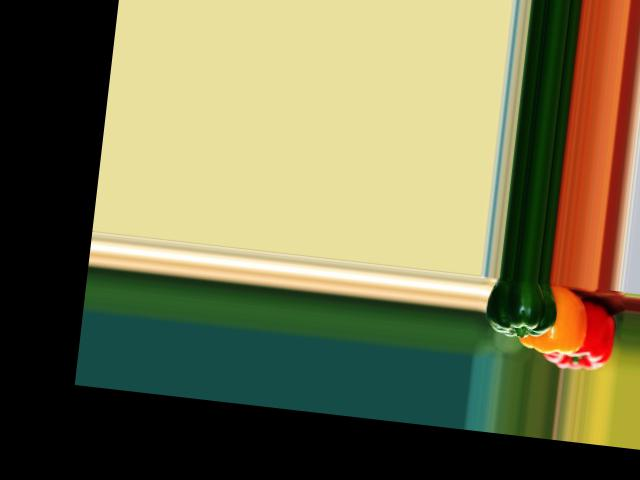bell_pepper: (542, 286, 618, 372)
